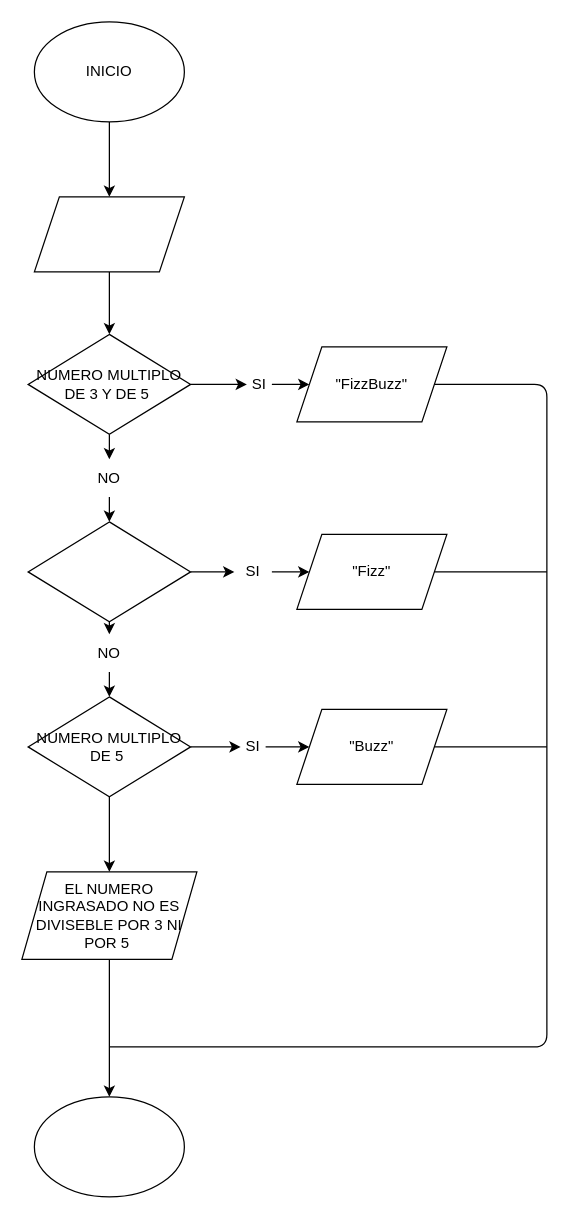
The diagram is 570 pixels wide and 1219 high, and some of its shapes have lost their labels. The shapes that lost their labels are listed below. From the top down, each one's centre as x and y in pixels, then its label:
the point at 108,234: INGRESE UN NUMERO
the point at 109,571: NUMERO MULTIPLO DE 3
the point at 108,1146: FIN
